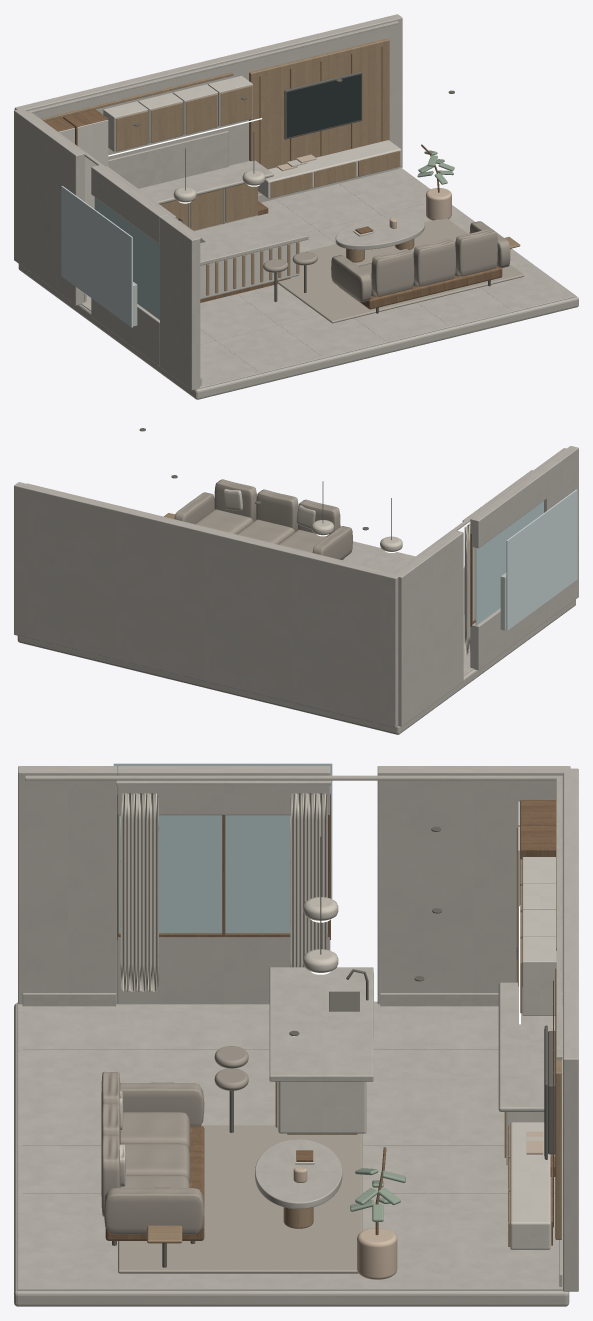
Rendered from win_space_01.glb.
3 views of the same model, one above another, from view 1: azimuth 30°, elevation 25°; view 2: azimuth 150°, elevation 25°; view 3: azimuth 270°, elevation 25° (orthographic). The views are drawn at different scales.
Visible parts, largest first — view 1: ARCH_Limestone floor finish, ARCH_Back wall, JOINERY_TV oak backing panel, ARCH_Left wall rear pier, EXT_Soft blue grey sky, ARCH_Left wall front pier, ARCH_Floor structural slab, SOFT_Rug under seating, JOINERY_Kitchen pale stone backsplash, DETAIL_TV screen, JOINERY_Island stone waterfall top, ARCH_Window head (+32 smaller); view 2: ARCH_Back wall, ARCH_Left wall rear pier, EXT_Soft blue grey sky, ARCH_Floor structural slab, ARCH_Window glazing, ARCH_Window head, ARCH_Left wall front pier, ARCH_Window sill wall, ARCH_Limestone floor finish, FURN_Sofa upright back cushion 1.58, SOFT_Right floor-length curtain, FURN_Sofa upright back cushion 2.43 (+8 smaller); view 3: ARCH_Limestone floor finish, ARCH_Left wall rear pier, ARCH_Left wall front pier, SOFT_Rug under seating, ARCH_Window glazing, JOINERY_Island stone waterfall top, ARCH_Floor structural slab, ARCH_Window sill wall, ARCH_Back wall, SOFT_Left floor-length curtain, ARCH_Window head, SOFT_Right floor-length curtain (+28 smaller).
Part boxes in pixels (box(x1,y1,x2,y2)): ARCH_Limestone floor finish: box(81, 167, 576, 389); ARCH_Back wall: box(14, 14, 402, 194); JOINERY_TV oak backing panel: box(249, 38, 389, 168); ARCH_Left wall rear pier: box(14, 109, 84, 305); EXT_Soft blue grey sky: box(61, 186, 132, 327); ARCH_Left wall front pier: box(160, 215, 200, 390); ARCH_Floor structural slab: box(18, 264, 578, 399); SOFT_Rug under seating: box(277, 218, 524, 323); JOINERY_Kitchen pale stone backsplash: box(108, 131, 228, 188); DETAIL_TV screen: box(286, 74, 361, 137); JOINERY_Island stone waterfall top: box(194, 211, 308, 265); ARCH_Window head: box(91, 165, 167, 244); ARCH_Back wall: box(14, 482, 398, 727); ARCH_Left wall rear pier: box(395, 530, 463, 726); EXT_Soft blue grey sky: box(506, 489, 577, 630); ARCH_Floor structural slab: box(17, 599, 575, 734); ARCH_Window glazing: box(475, 501, 543, 625); ARCH_Window head: box(470, 469, 547, 548); ARCH_Left wall front pier: box(539, 446, 578, 620); ARCH_Window sill wall: box(470, 602, 547, 670); ARCH_Limestone floor finish: box(342, 541, 473, 676); FURN_Sofa upright back cushion 1.58: box(256, 489, 298, 531); SOFT_Right floor-length curtain: box(464, 523, 475, 654); FURN_Sofa upright back cushion 2.43: box(214, 479, 256, 521); ARCH_Limestone floor finish: box(17, 1001, 562, 1290); ARCH_Left wall rear pier: box(377, 766, 570, 1004); ARCH_Left wall front pier: box(18, 766, 117, 1004); SOFT_Rug under seating: box(118, 1125, 362, 1273); ARCH_Window glazing: box(118, 815, 327, 933); JOINERY_Island stone waterfall top: box(269, 967, 373, 1081); ARCH_Floor structural slab: box(14, 1003, 569, 1306); ARCH_Window sill wall: box(117, 937, 330, 1004); ARCH_Back wall: box(563, 768, 578, 1291); SOFT_Left floor-length curtain: box(120, 793, 158, 992); ARCH_Window head: box(117, 766, 330, 815); SOFT_Right floor-length curtain: box(290, 793, 327, 967).
Size of the model in its own units: 8.46 by 3.12 by 6.41.
20 materials, 12 textured.
